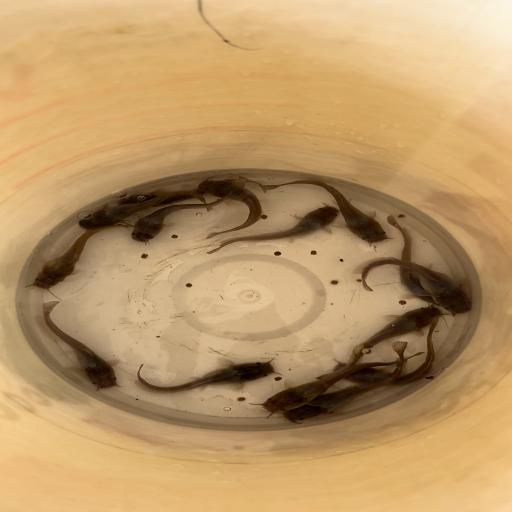lele: (282, 340, 409, 423), (258, 352, 425, 414), (312, 305, 442, 381), (327, 313, 446, 387), (264, 178, 390, 244), (28, 224, 137, 292), (352, 256, 473, 315), (129, 182, 244, 244), (39, 301, 120, 389), (204, 204, 340, 256), (77, 190, 215, 230), (136, 356, 279, 394), (386, 214, 444, 306), (119, 179, 265, 211), (197, 178, 264, 240)
